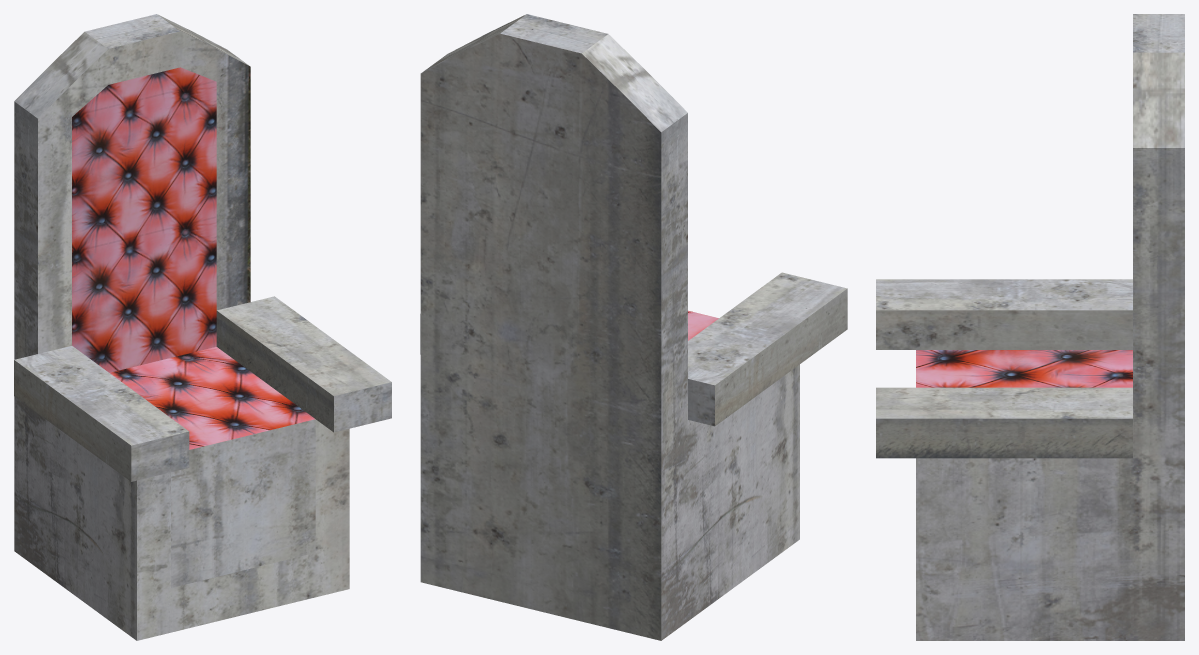
Rendered from Throne.fbx.
3 views of the same model, side by side, from view 1: azimuth 30°, elevation 25°; view 2: azimuth 150°, elevation 25°; view 3: azimuth 270°, elevation 25° (orthographic). The views are drawn at different scales.
Parts seen in each view (by area): view 1: pCube2; view 2: pCube2; view 3: pCube2.
Boxes of the visible parts, x1,y1,x2,y2 form: pCube2: (14,14,391,640); pCube2: (420,14,847,640); pCube2: (876,14,1184,640).
Bounding box in the file's own units: 2.07 × 3.82 × 1.94.
Materials: 1 (1 with a texture image).
